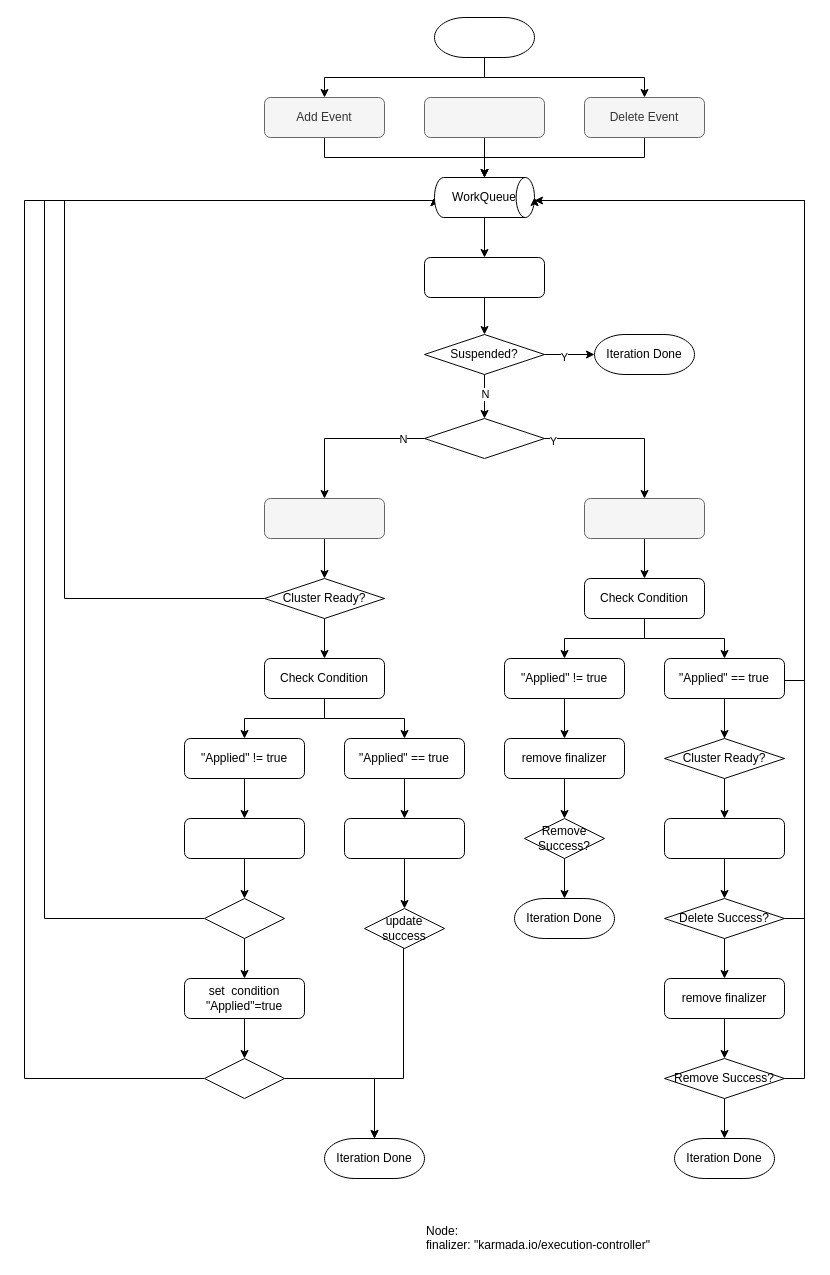
Some shapes in this 830 by 1275 pixel diagram are drawn without their labels. The centre of each missing label's shape, as x and y in pixels:
"create success" goes at (x=244, y=918).
"create workload" goes at (x=244, y=838).
"delete workload from member cluster" goes at (x=724, y=838).
"Deleting?" goes at (x=484, y=438).
"Handle Delete Process" goes at (x=644, y=518).
"Handle Reconcile Process" goes at (x=324, y=518).
"Informer" goes at (x=484, y=37).
"Iterate Item" goes at (x=484, y=277).
"set condition success" goes at (x=244, y=1078).
"Update Event" goes at (x=484, y=117).
"update workload" goes at (x=404, y=838).
